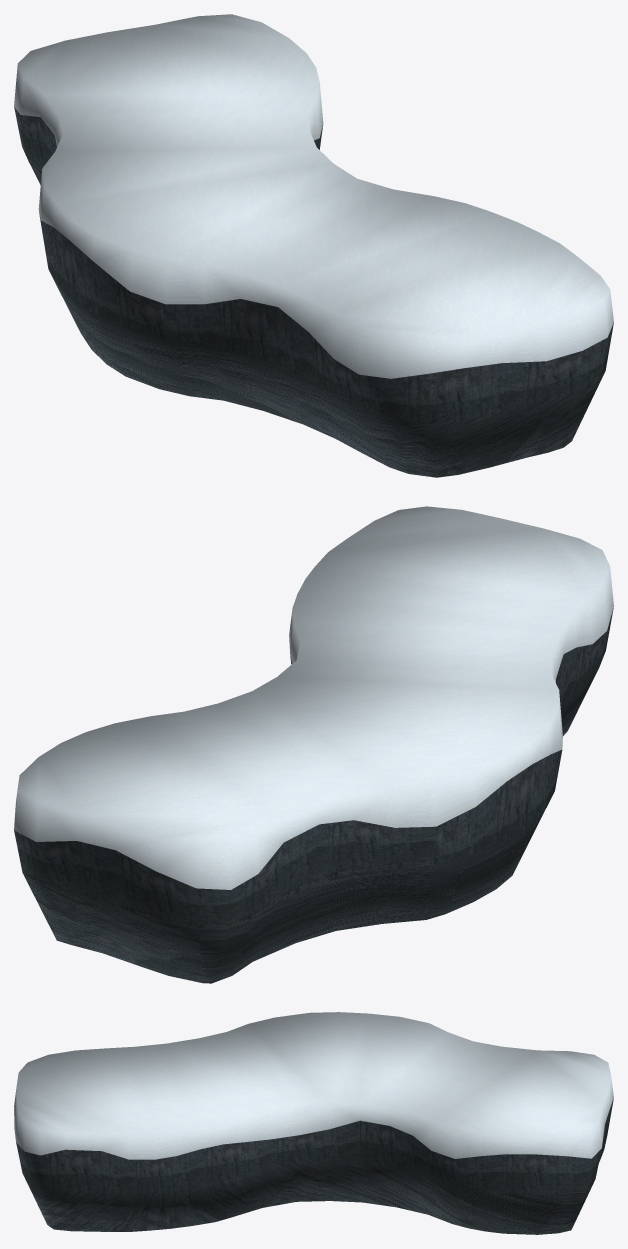
File: SnowBowlingStepB.obj
3 views of the same model, one above another, from view 1: azimuth 30°, elevation 25°; view 2: azimuth 150°, elevation 25°; view 3: azimuth 270°, elevation 25° (orthographic). The views are drawn at different scales.
Parts seen in each view (by area): view 1: Plane.000_Plane.006, Plane.003; view 2: Plane.000_Plane.006, Plane.003; view 3: Plane.000_Plane.006, Plane.003.
Part boxes in pixels (<box>): Plane.000_Plane.006: <box>14,14,613,378</box>; Plane.003: <box>14,106,613,477</box>; Plane.000_Plane.006: <box>14,506,613,889</box>; Plane.003: <box>14,608,613,983</box>; Plane.000_Plane.006: <box>14,1012,613,1159</box>; Plane.003: <box>16,1099,613,1234</box>.
Size of the model in its own units: 1570 by 635 by 3148.
